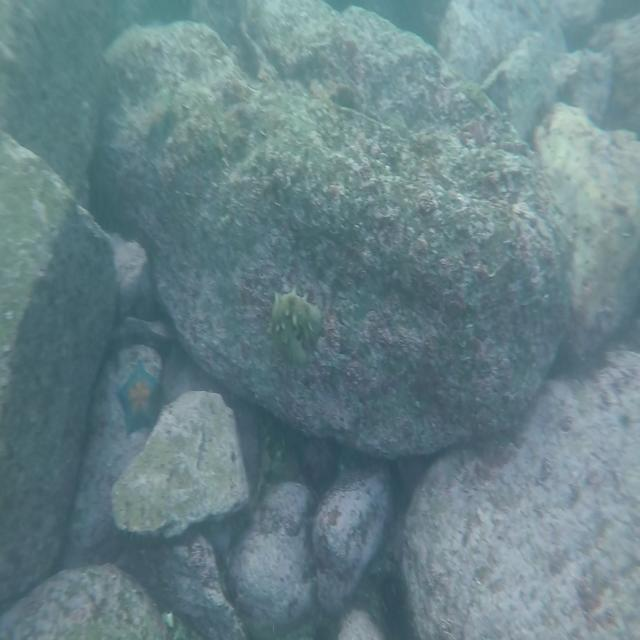echinus: (372, 573, 415, 640)
holothurian: (267, 284, 326, 360)
starfish: (115, 357, 167, 434)
